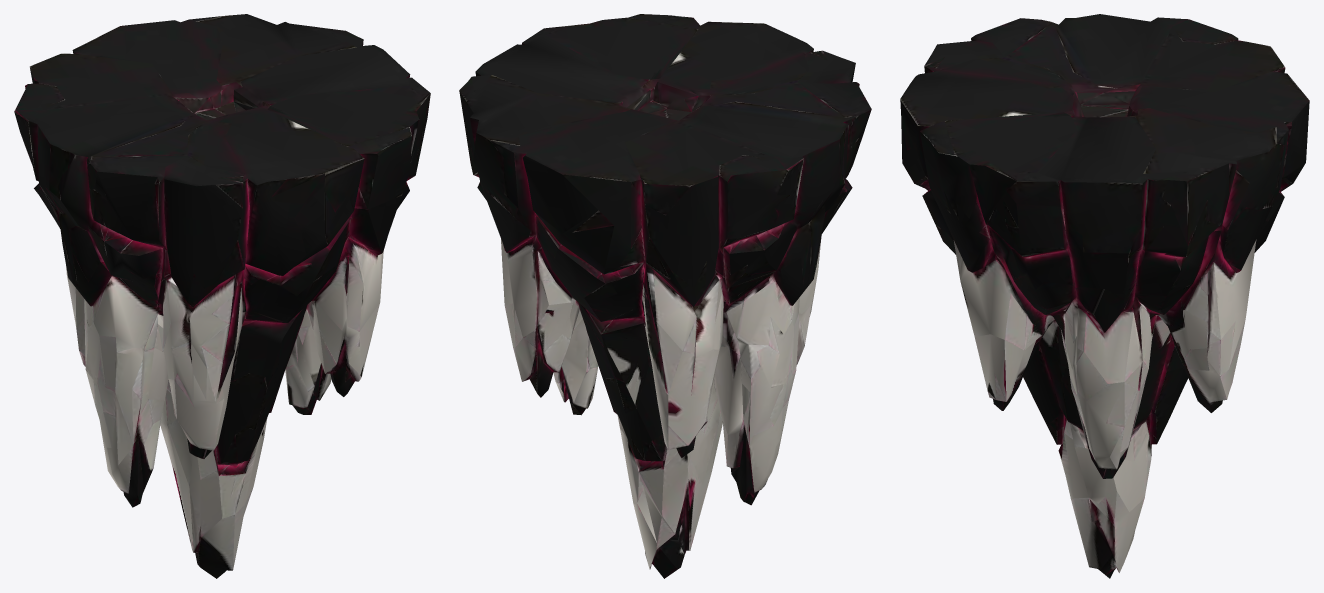
The model's file is mountain.glb.
The picture shows the model from 3 angles, left to right: view 1: azimuth 30°, elevation 25°; view 2: azimuth 150°, elevation 25°; view 3: azimuth 270°, elevation 25°; orthographic projection.
Visible parts, largest first — view 1: mesh_node; view 2: mesh_node; view 3: mesh_node.
Part boxes in pixels (box(x1,y1,x2,y2)): mesh_node: box(14, 14, 430, 578); mesh_node: box(459, 14, 871, 578); mesh_node: box(900, 14, 1309, 578).
Bounding box in the file's own units: 1.43 × 1.9 × 1.46.
1 material, 1 textured.
